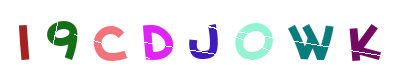0: (207, 0, 287, 80)
9: (85, 0, 165, 80)
C: (116, 0, 196, 80)
D: (165, 0, 245, 80)
I: (24, 0, 104, 80)
J: (165, 0, 245, 80)
K: (263, 0, 343, 80)
W: (217, 0, 297, 80)
